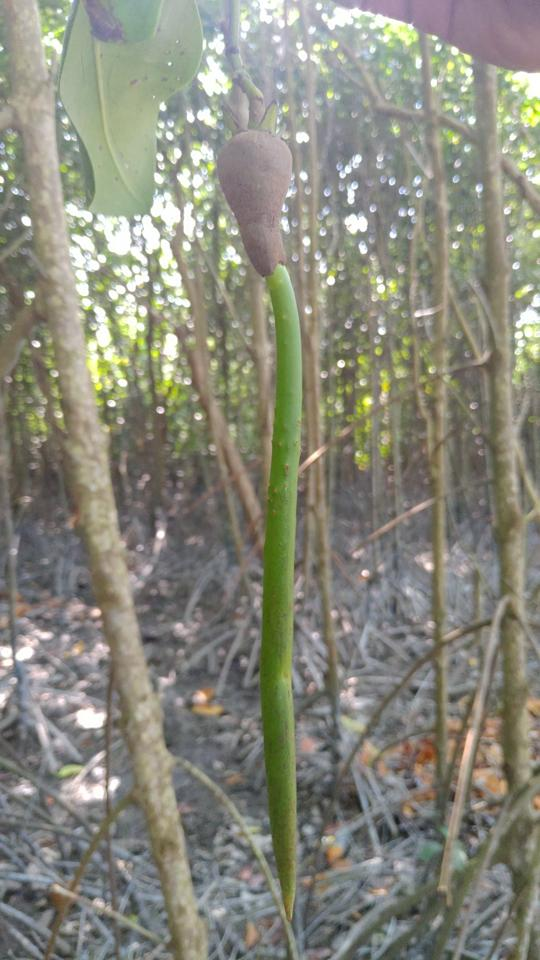mentah: (216, 77, 330, 929)
